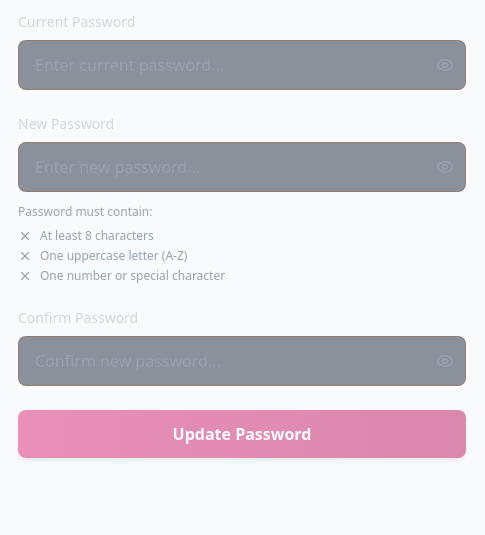
Scenario: PasswordChangeForm › displays password strength and requirements
Expected: the text "At least 8 characters" is shown, [18,227,154,244]
Expected: the text "One uppercase letter (A-Z)" is shown, [18,247,187,264]
Verify strength indicator shows for weak passwords
Type "weak" into the password field with placeholder "Enter new password...".
click(242, 167); type("weak")  # box [18,142,466,192]
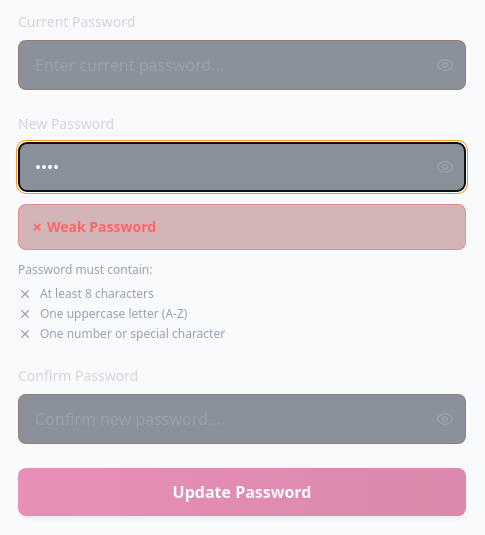
Expected: the text "✗ Weak Password" is shown, [31,217,156,236]
